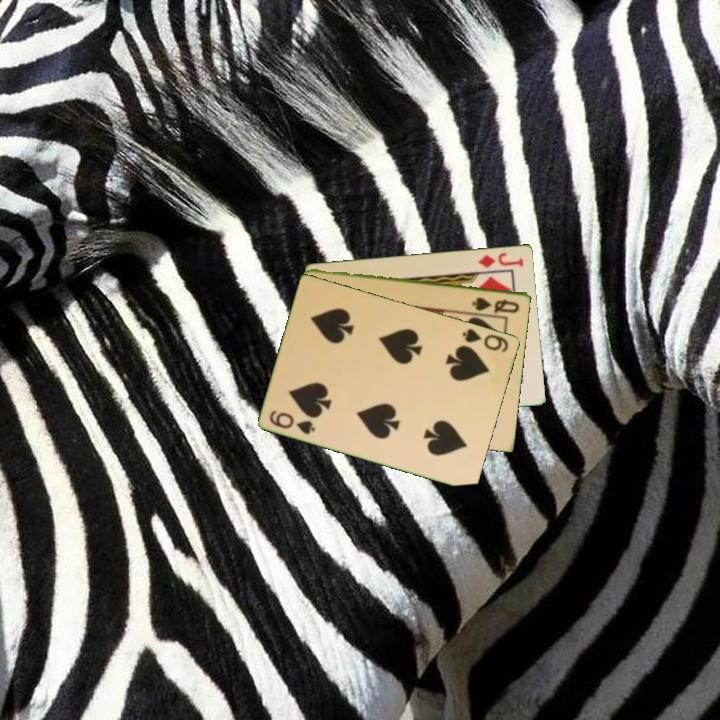6s: (459, 325, 512, 355), (266, 407, 318, 437)
Jd: (475, 249, 526, 271)
Qs: (469, 293, 523, 316)
